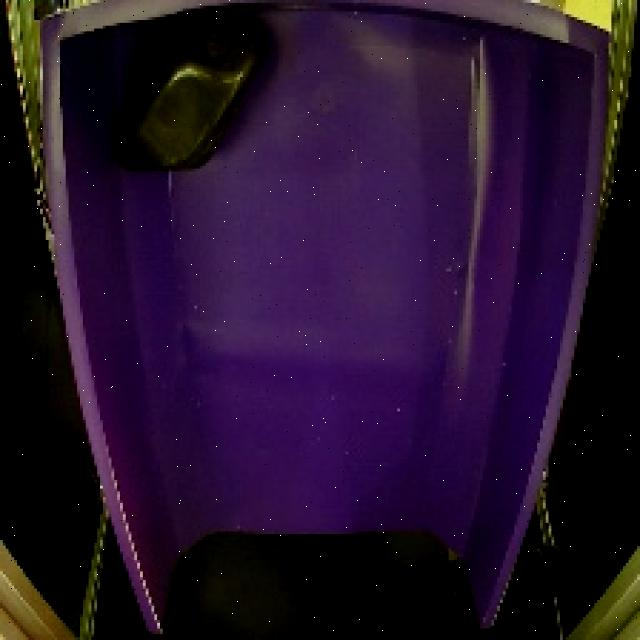cobbles: (103, 7, 283, 185)
